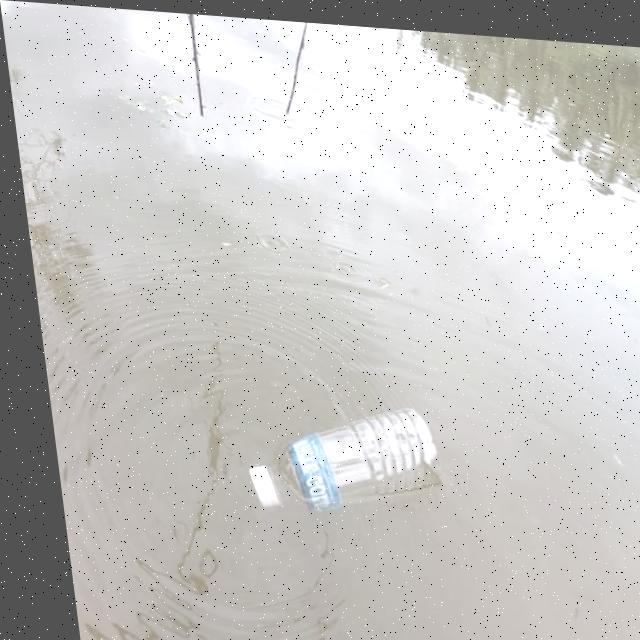waterbottle: (225, 389, 434, 528)
